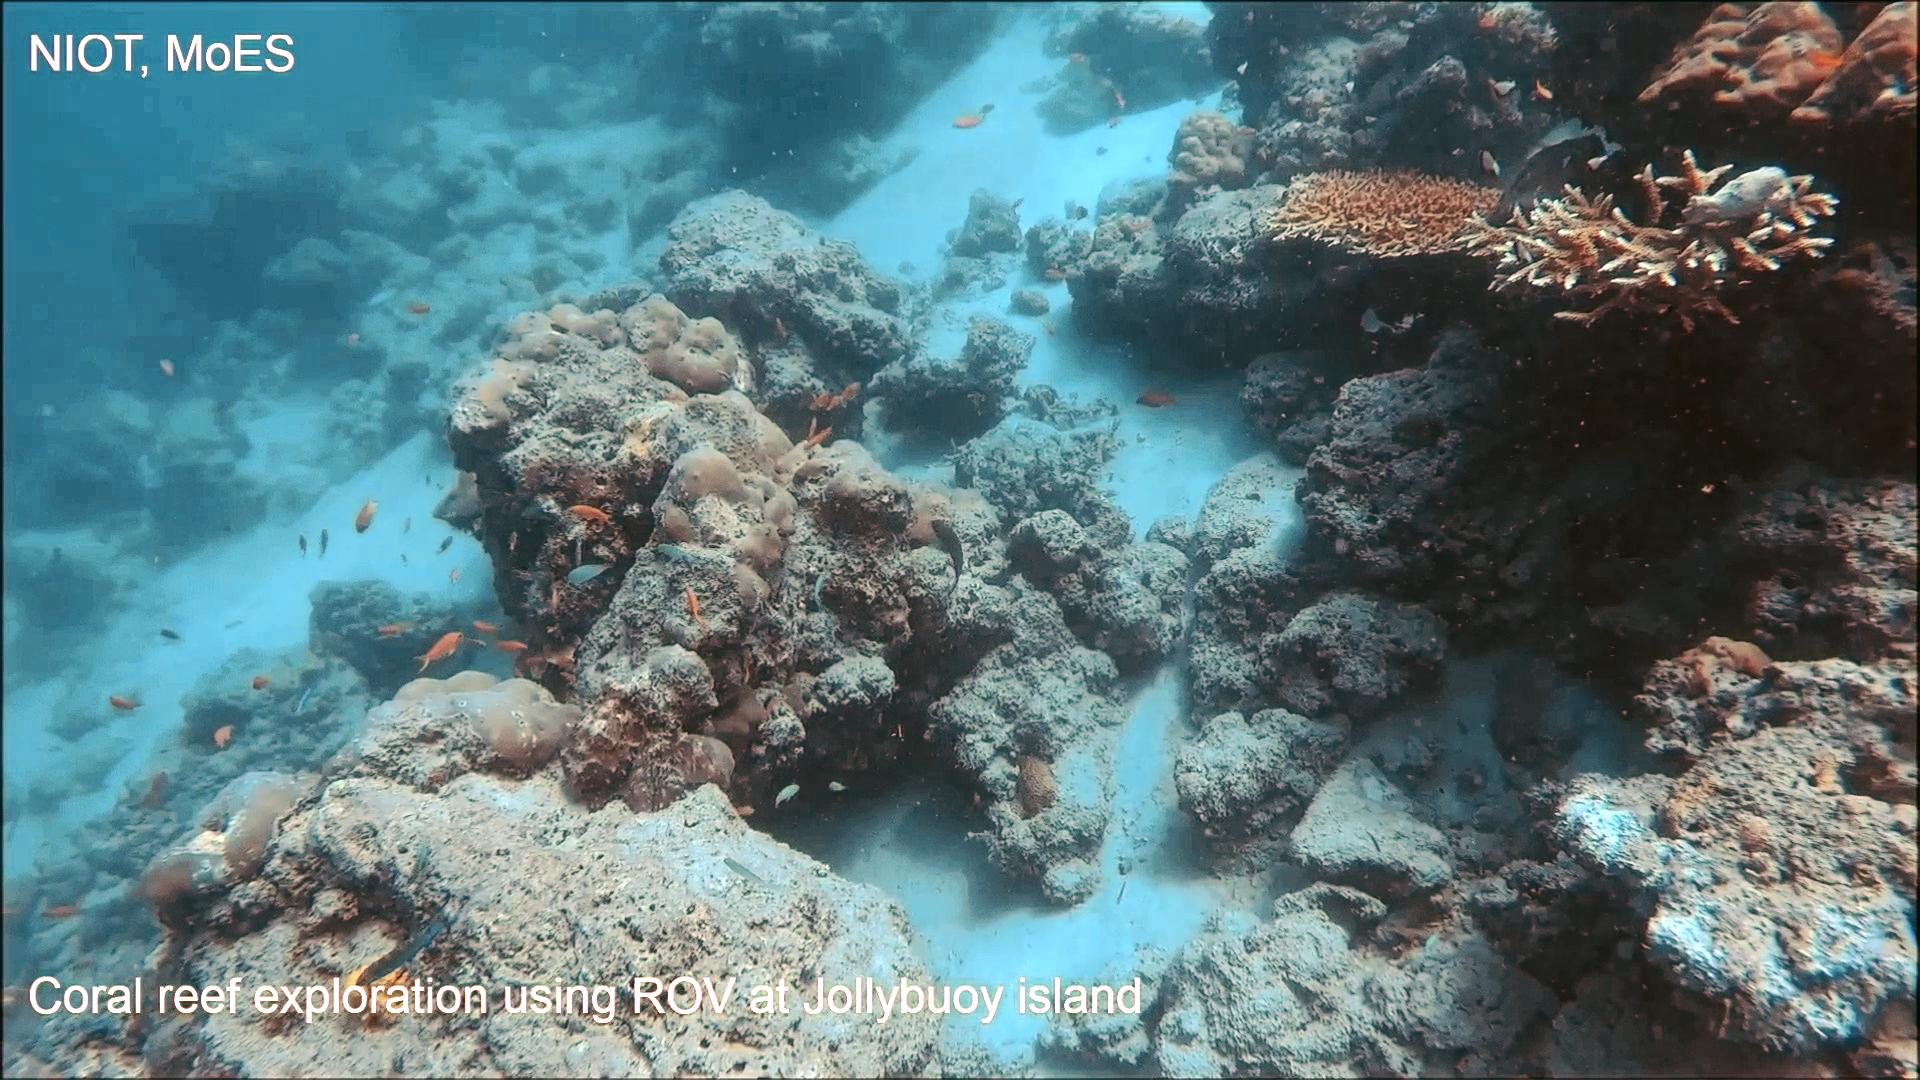Porites-Porites pukoensis: (580, 287, 835, 618)
